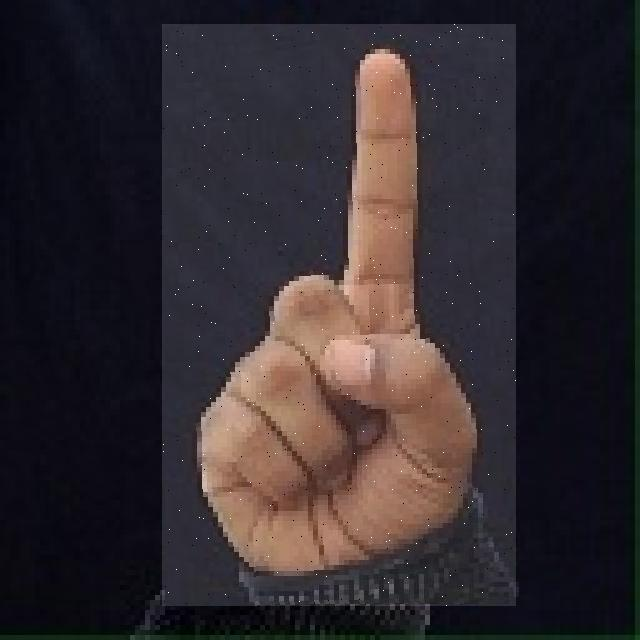IloveYou: (163, 24, 516, 606)
